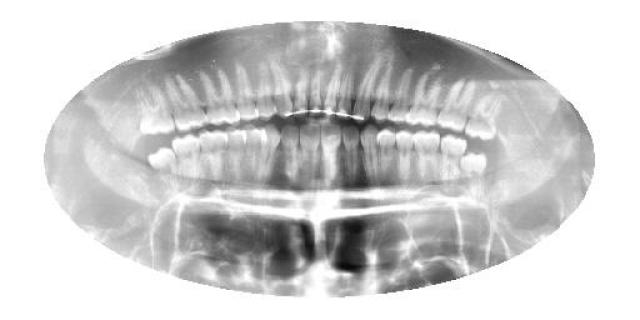Restorations: (458, 150, 488, 186)
